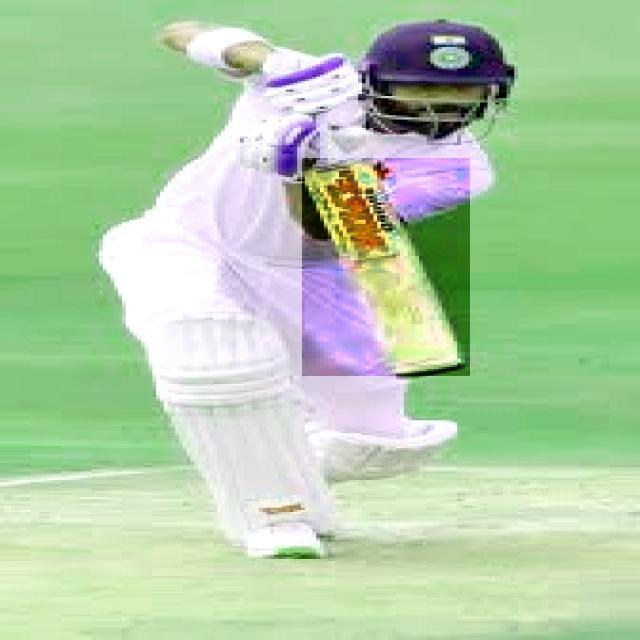bat: (303, 159, 468, 377)
toe: (394, 358, 465, 378)
